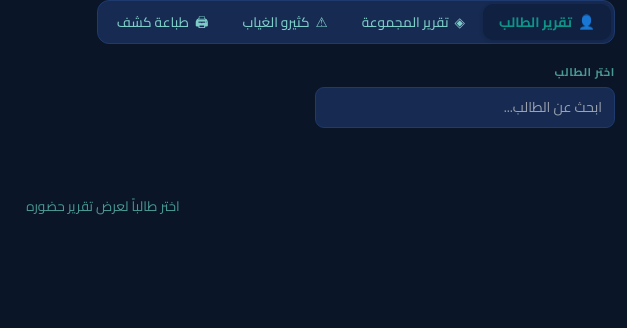
Test: AttendanceReports — "كثيرو الغياب" tab uses the scoped/aggregate GET (C4 Attendance migration Phase 2) › shows no dedicated loading/spinner indicator while the fetch is pending (FR-011)
Click the button "⚠ كثيرو الغياب": (285, 22) [226, 4, 344, 40]
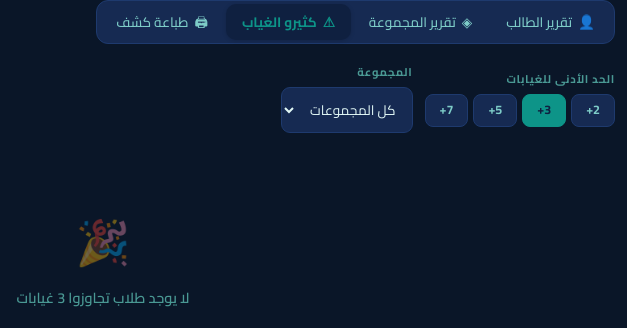
Expected: the text "لا يوجد طلاب تجاوزوا 3 غيابات" is shown, [16, 284, 190, 311]
